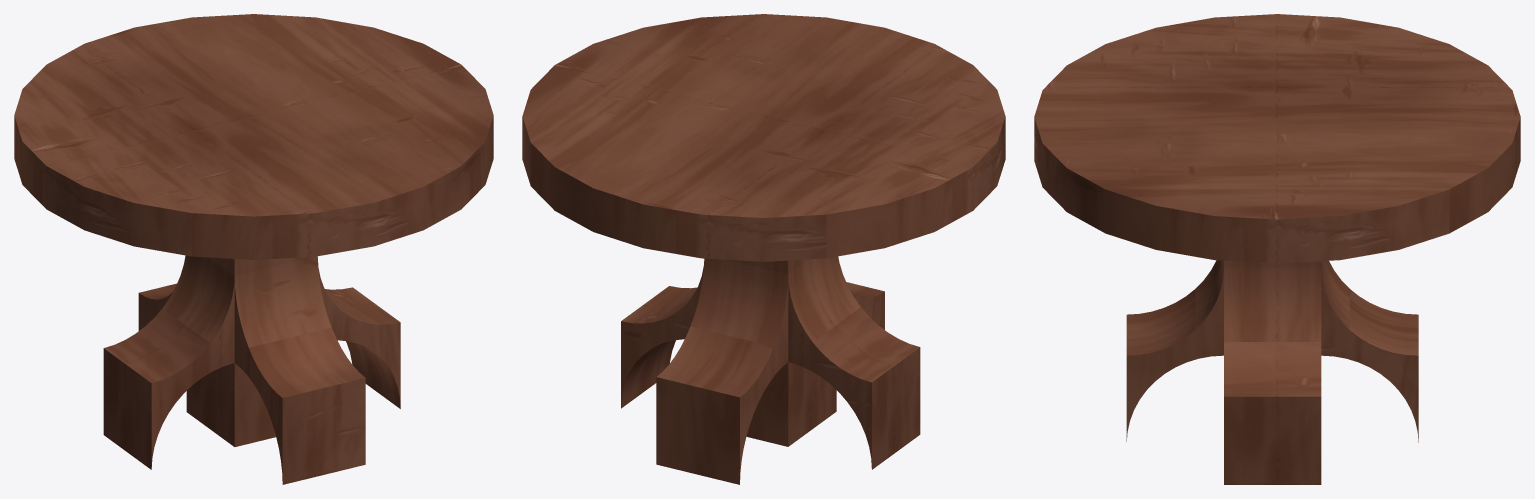
The model's file is StoneCircleTable.fbx.
3 renders of one model, left to right at view 1: azimuth 30°, elevation 25°; view 2: azimuth 150°, elevation 25°; view 3: azimuth 270°, elevation 25°, orthographic.
Parts seen in each view (by area): view 1: cylinder, halfPipe_half (×7), block (×2); view 2: cylinder, halfPipe_half (×6), block (×2); view 3: cylinder, halfPipe_half (×6), block.
Boxes of the visible parts, x1,y1,x2,y2 form: cylinder: (14,14,493,259); halfPipe_half (×7): (103,255,400,484); block (×2): (186,256,313,446); cylinder: (522,14,1005,261); halfPipe_half (×6): (621,256,920,484); block (×2): (729,259,836,446); cylinder: (1034,14,1520,263); halfPipe_half (×6): (1126,260,1418,484); block: (1224,260,1321,267).
Size of the model in its own units: 7 by 4.9 by 7.
Materials: 1 (1 with a texture image).
